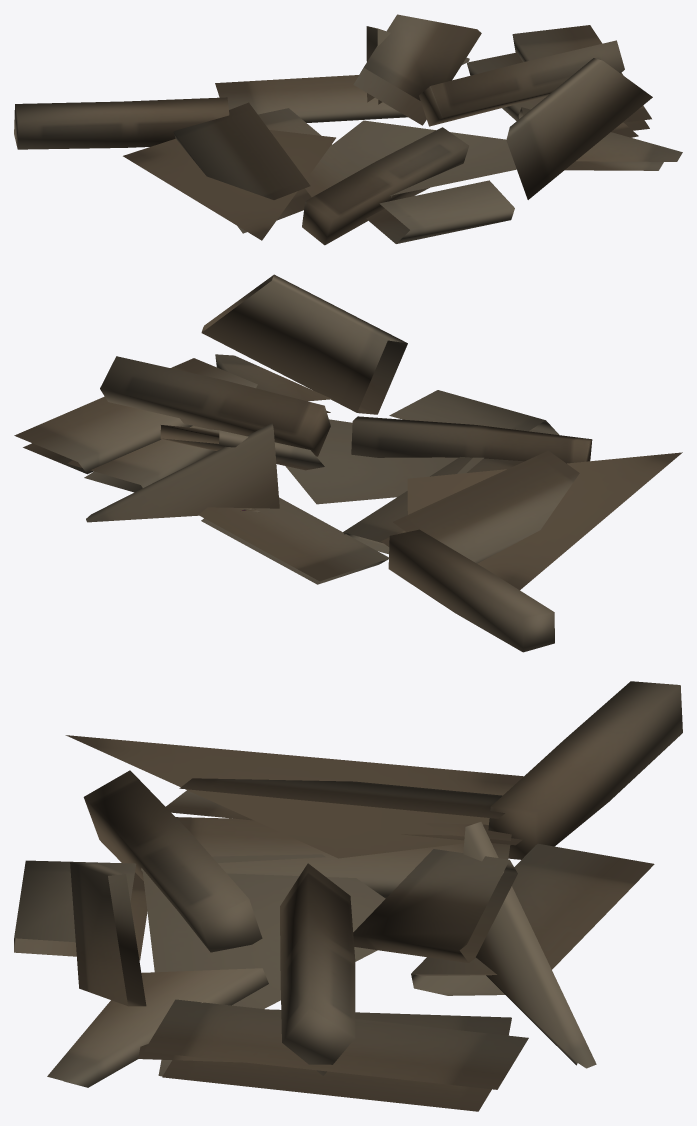
File: Destroyed_food_box.gltf
3 renders of one model, top to bottom at view 1: azimuth 30°, elevation 25°; view 2: azimuth 150°, elevation 25°; view 3: azimuth 270°, elevation 25°, orthographic. The views are drawn at different scales.
Parts seen in each view (by area): view 1: PR_Destroyed_Food_Box_Wood; view 2: PR_Destroyed_Food_Box_Wood; view 3: PR_Destroyed_Food_Box_Wood.
Boxes of the visible parts, bbox=[...] form: PR_Destroyed_Food_Box_Wood: bbox=[14, 14, 682, 245]; PR_Destroyed_Food_Box_Wood: bbox=[14, 274, 682, 652]; PR_Destroyed_Food_Box_Wood: bbox=[14, 681, 682, 1111].
Size of the model in its own units: 1.72 by 0.3538 by 1.19.
1 material, 1 textured.
